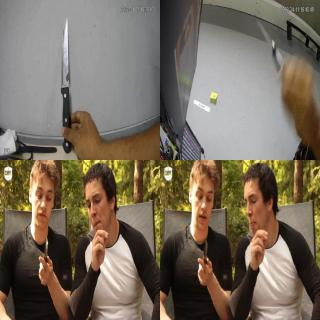knife: (60, 13, 74, 156), (252, 17, 280, 61), (35, 231, 53, 277), (195, 237, 213, 280)
